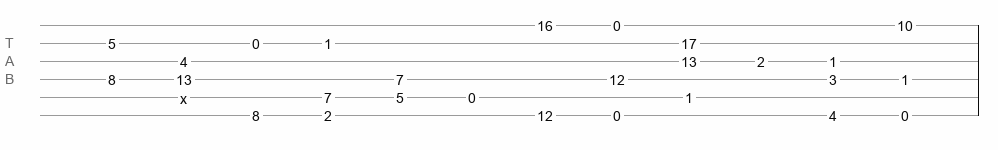0: (252, 36, 260, 46), (468, 90, 476, 100), (613, 108, 621, 118), (613, 18, 621, 28), (901, 108, 909, 118)
1: (324, 36, 332, 46), (685, 90, 693, 100), (829, 54, 837, 64), (901, 72, 909, 82)
10: (897, 18, 913, 28)
12: (537, 108, 553, 118), (609, 72, 625, 82)
13: (176, 72, 192, 82), (681, 54, 697, 64)
16: (537, 18, 553, 28)
17: (681, 36, 697, 46)
2: (324, 108, 332, 118), (757, 54, 765, 64)
3: (829, 72, 837, 82)
4: (180, 54, 188, 64), (829, 108, 837, 118)
5: (108, 36, 116, 46), (396, 90, 404, 100)
7: (324, 90, 332, 100), (396, 72, 404, 82)
8: (108, 72, 116, 82), (252, 108, 260, 118)
x: (180, 91, 187, 99)
